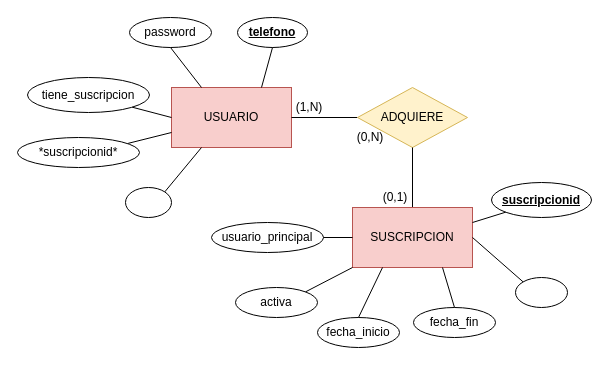
This 609x365 diagram has some shape labels left out. The shapes that lost their labels are listed below. From the top down, each one's centre as x and y in pixels, then its label:
At pixel 148 202: "usos".
At pixel 541 292: "tipo".
